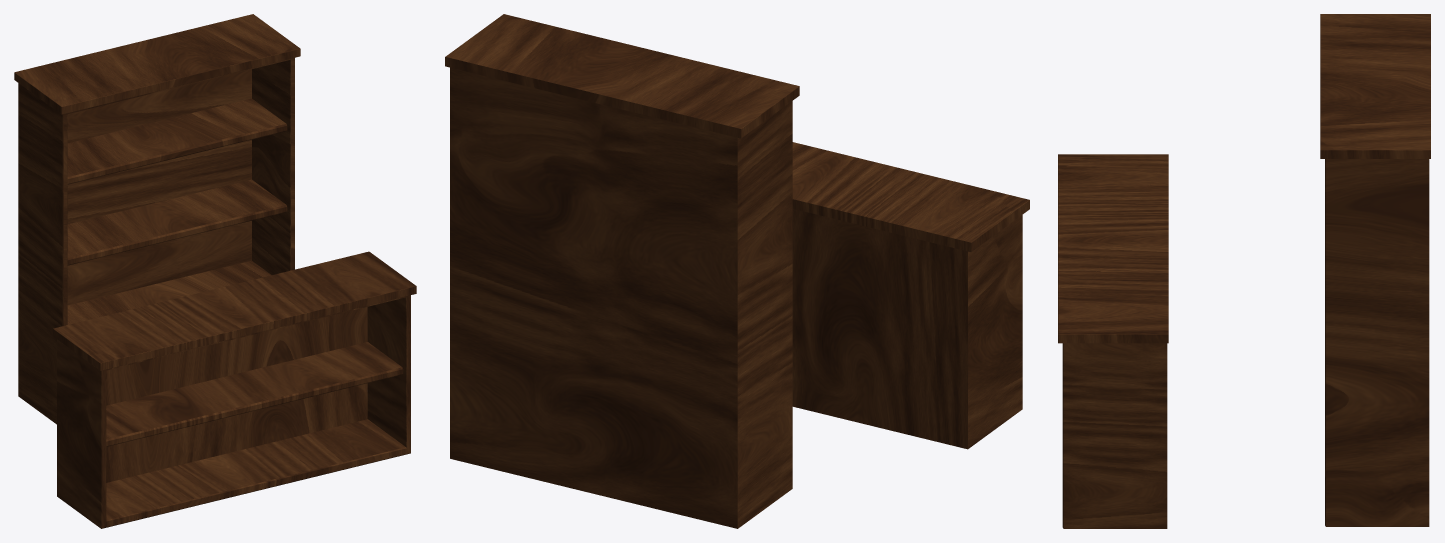
File: Bookshelves.fbx
3 renders of one model, left to right at view 1: azimuth 30°, elevation 25°; view 2: azimuth 150°, elevation 25°; view 3: azimuth 270°, elevation 25°, orthographic. The views are drawn at different scales.
Visible parts, largest first — view 1: ShelfTall, ShelfShort; view 2: ShelfTall, ShelfShort; view 3: ShelfTall, ShelfShort.
Boxes of the visible parts, <box> form: ShelfTall: <box>14,14,300,424</box>; ShelfShort: <box>53,251,416,528</box>; ShelfTall: <box>445,14,799,528</box>; ShelfShort: <box>792,142,1029,449</box>; ShelfTall: <box>1320,14,1430,526</box>; ShelfShort: <box>1058,154,1168,528</box>.
Bounding box in the file's own units: 4.09 × 4 × 3.57.
Materials: 1 (1 with a texture image).
